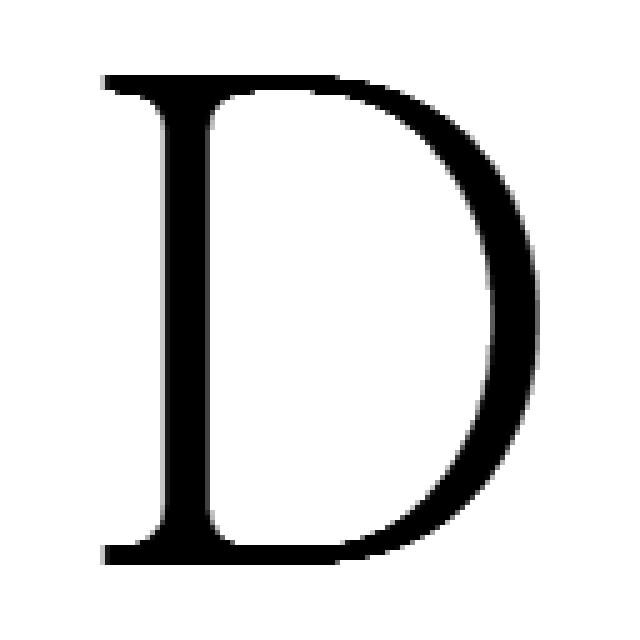D: (90, 65, 540, 565)
